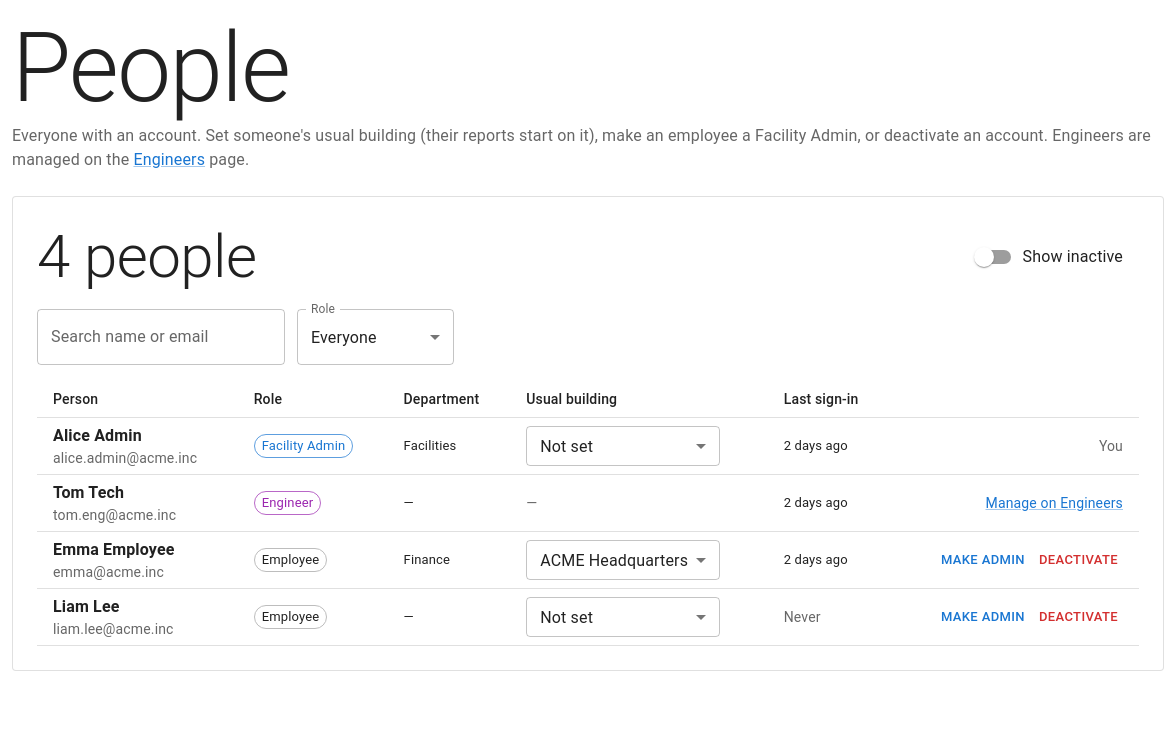
Test: People admin page › shows a refusal right above that person’s buttons
Click the button "Make admin" in the row of "Emma Employee".
click(983, 560)  # box left=936, top=545, right=1030, bottom=576
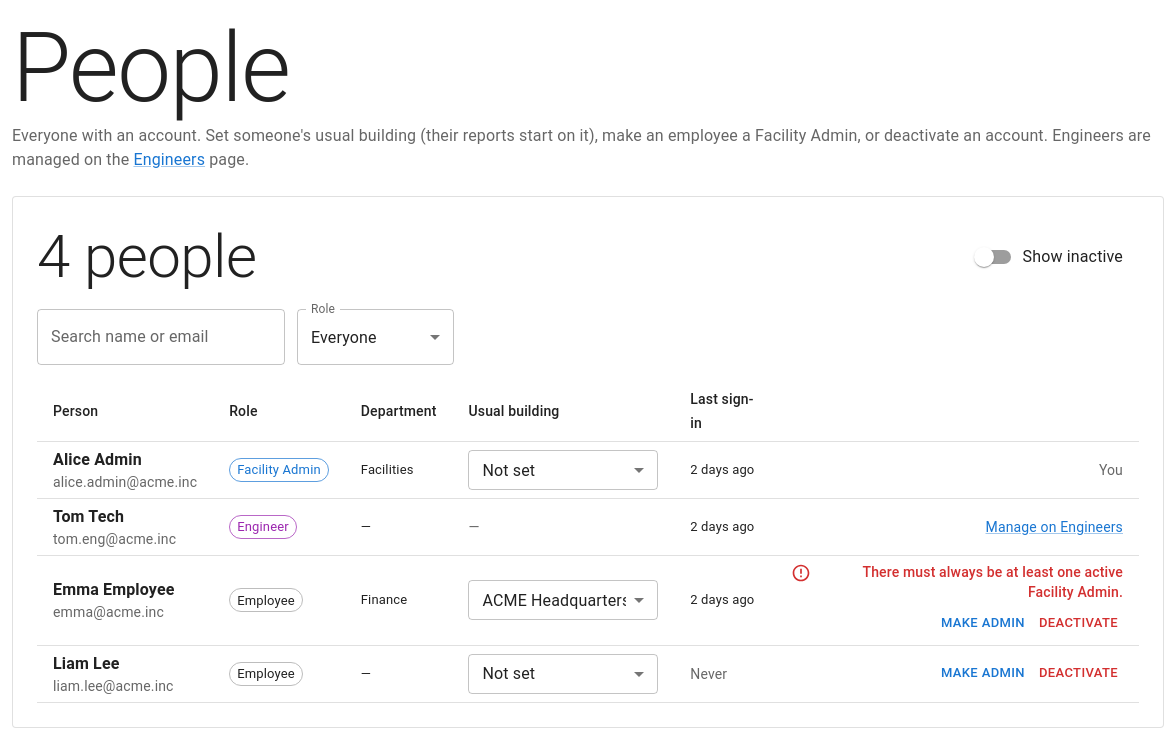
Result: the message reads "There must always be at least one active Facility Admin." at left=862, top=564, right=1123, bottom=600
